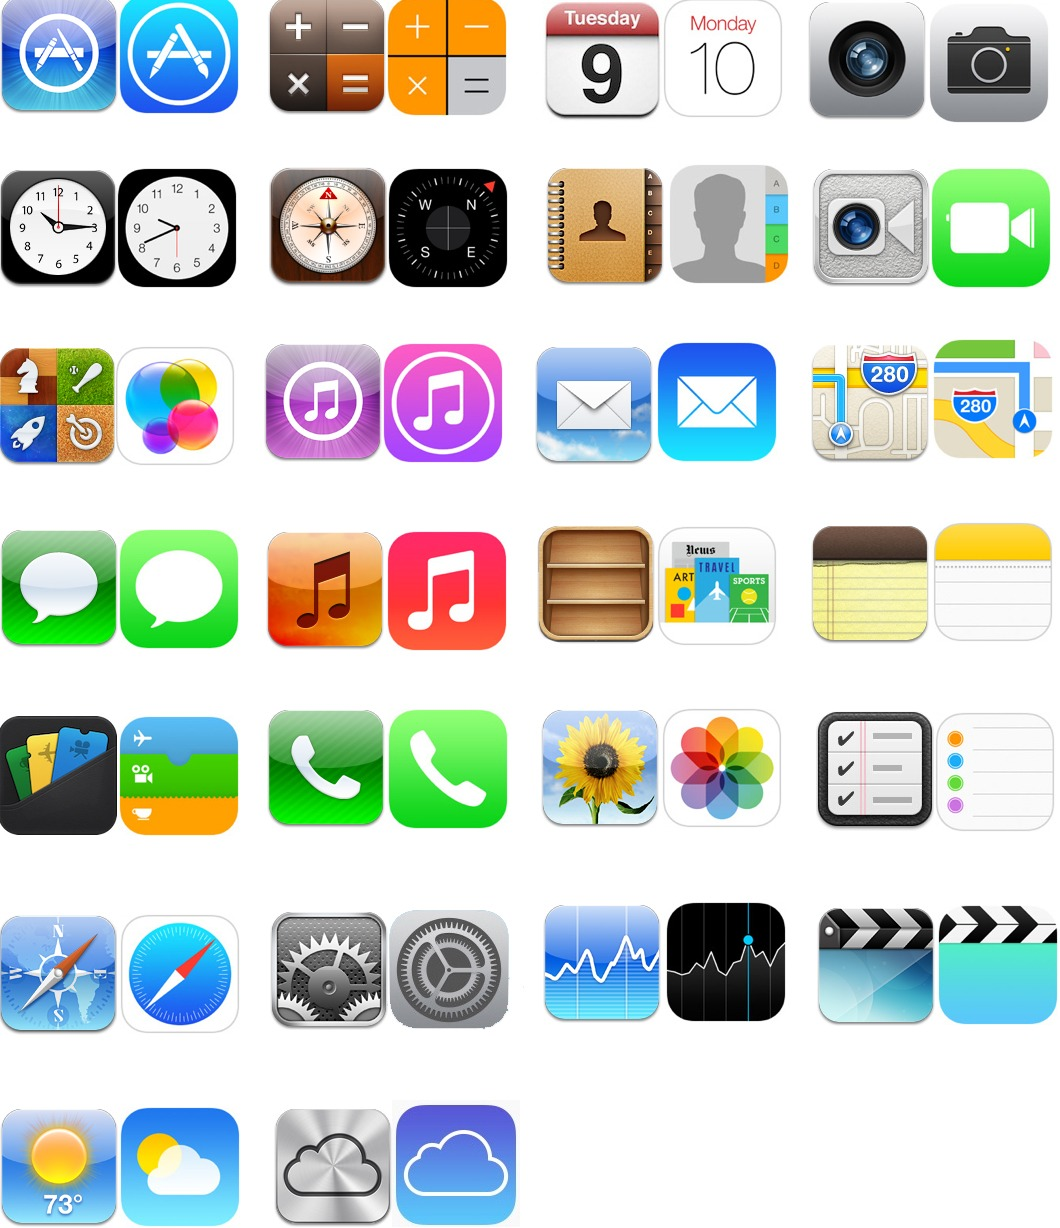calendar: (114, 155, 245, 288)
camera: (940, 8, 1049, 127)
phonemessages: (129, 514, 245, 651)
